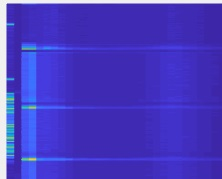leak: (19, 52, 47, 103), (20, 113, 45, 156), (17, 162, 54, 179)
